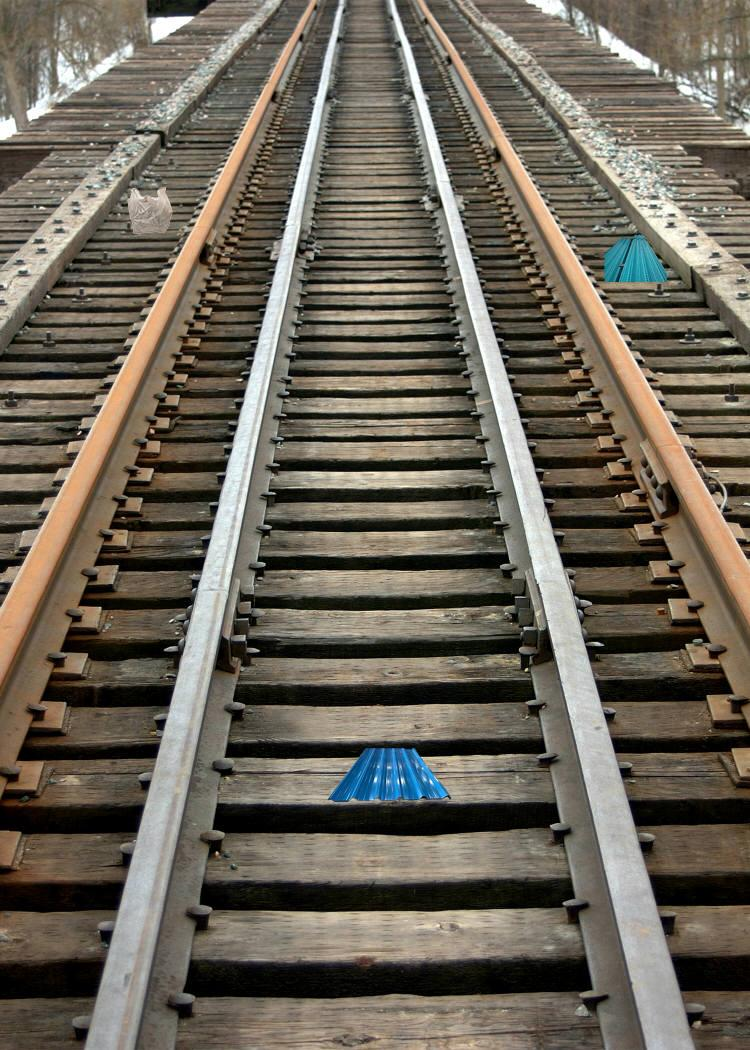Color_steel: (326, 736, 450, 828), (588, 226, 668, 308)
Plastic: (112, 184, 180, 238)
